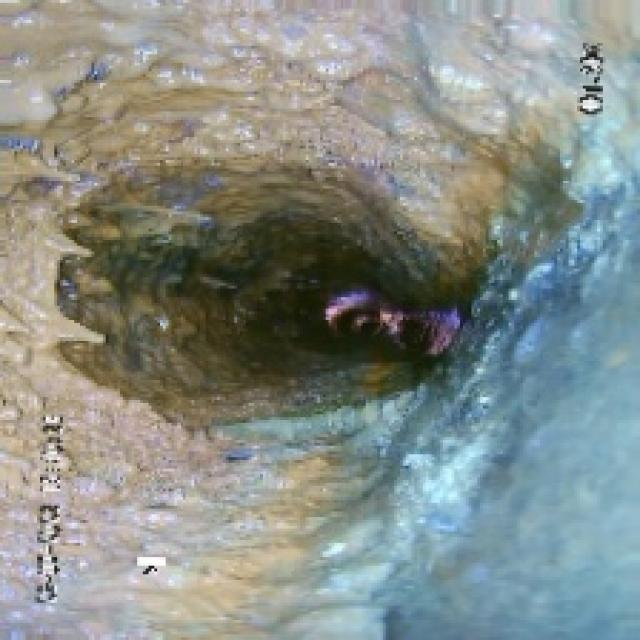encrustation: (12, 74, 252, 463)
